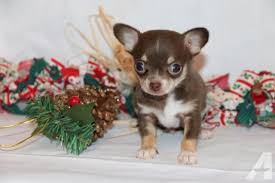chihuahua: (103, 19, 219, 173)
